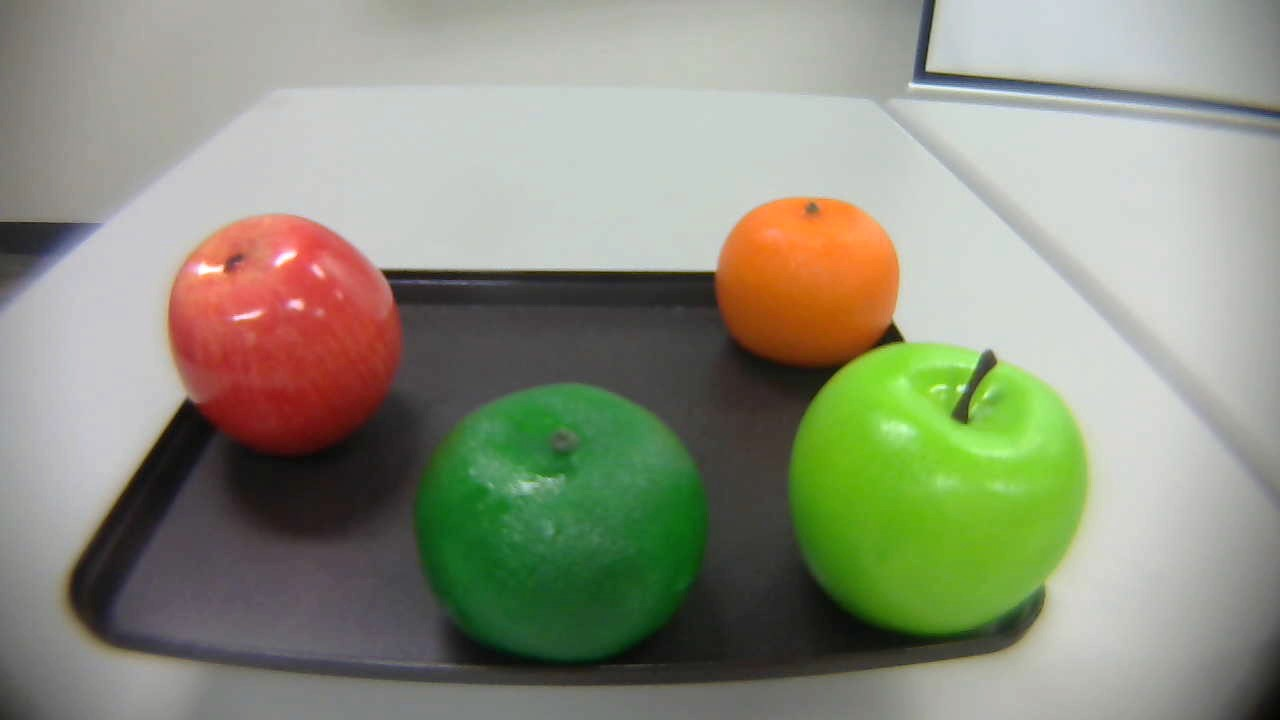green apple: (794, 340, 1092, 632)
green orange: (415, 375, 708, 661)
orange: (712, 198, 904, 379)
red apple: (170, 211, 407, 453)
